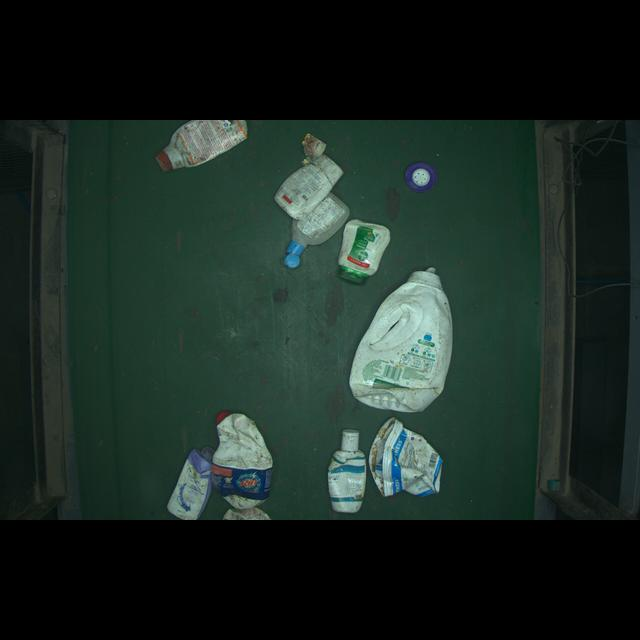mix PET: (370, 417, 452, 503), (322, 426, 370, 517), (339, 206, 391, 290), (164, 444, 213, 524), (402, 153, 438, 198)
